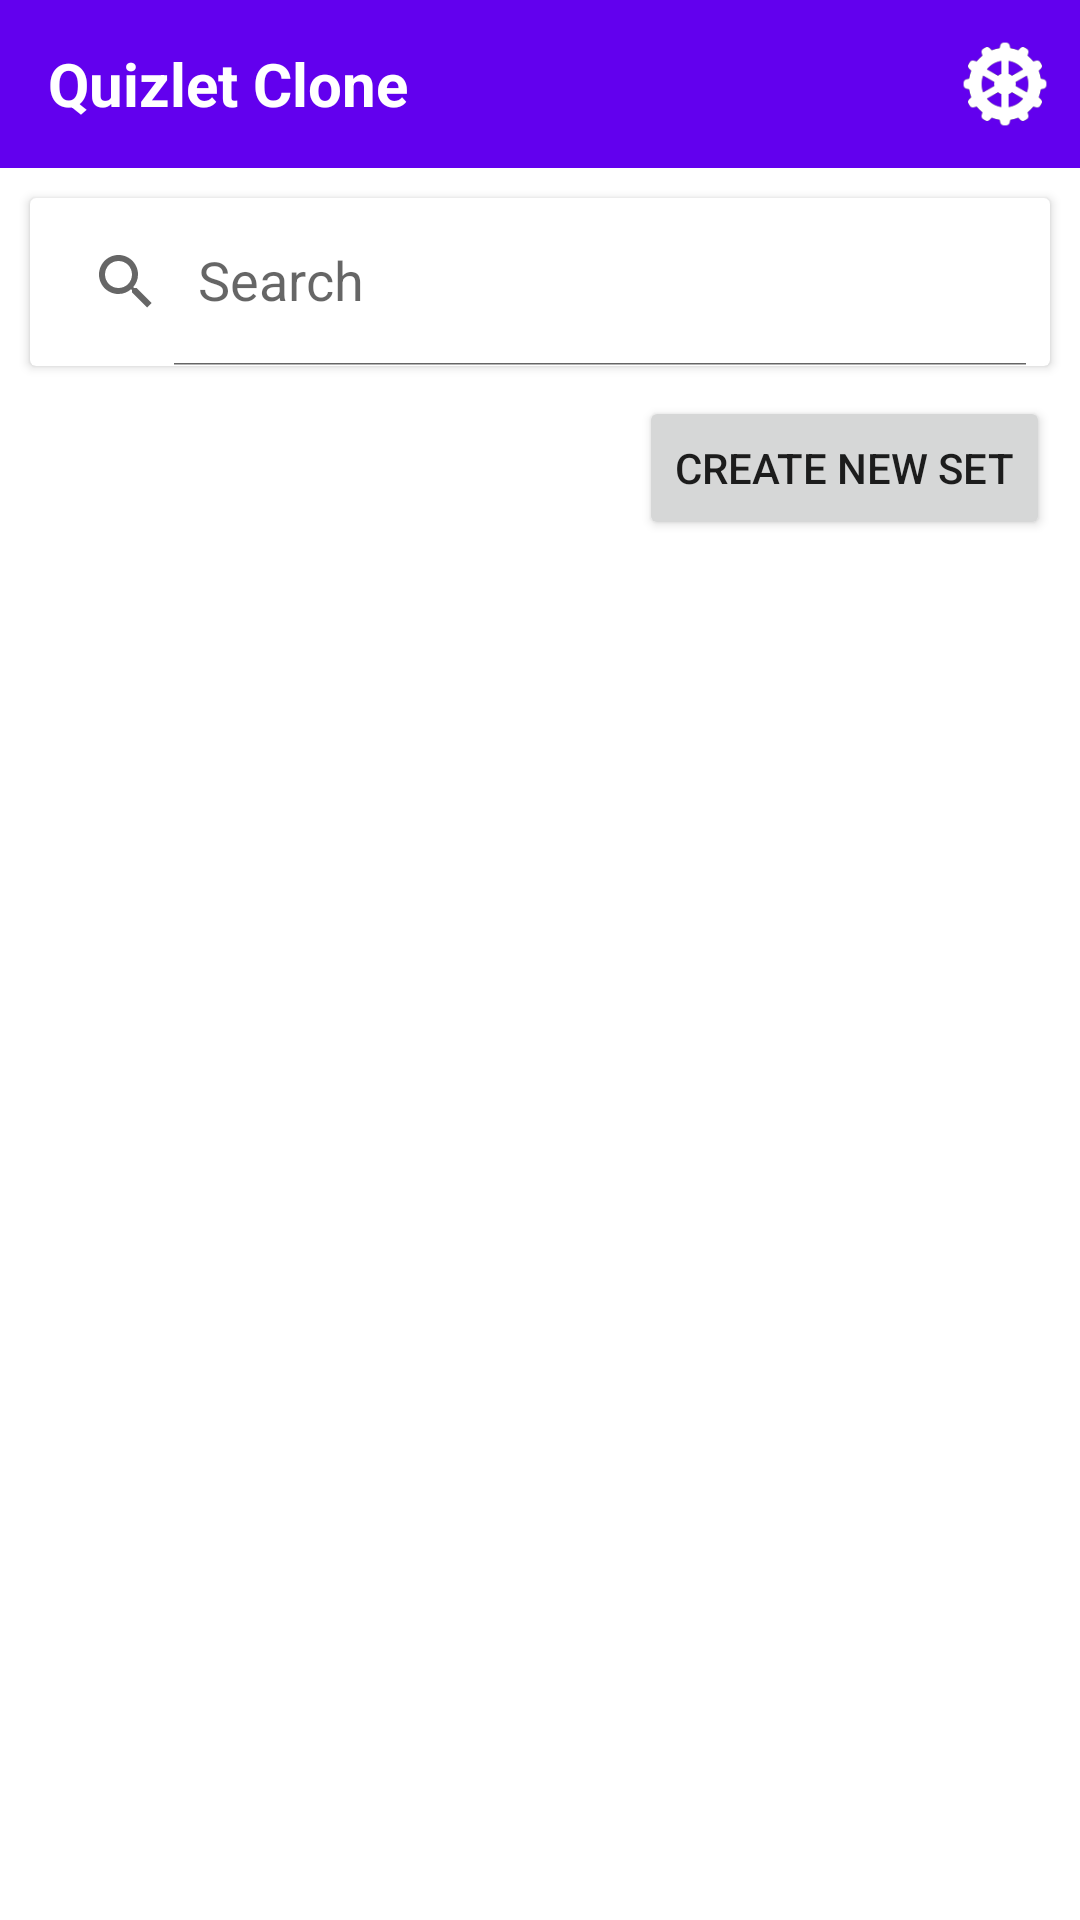

Named icons in this screenshot (1080×1920) and their centers, point (x, y):
setting: point (1005, 84)
